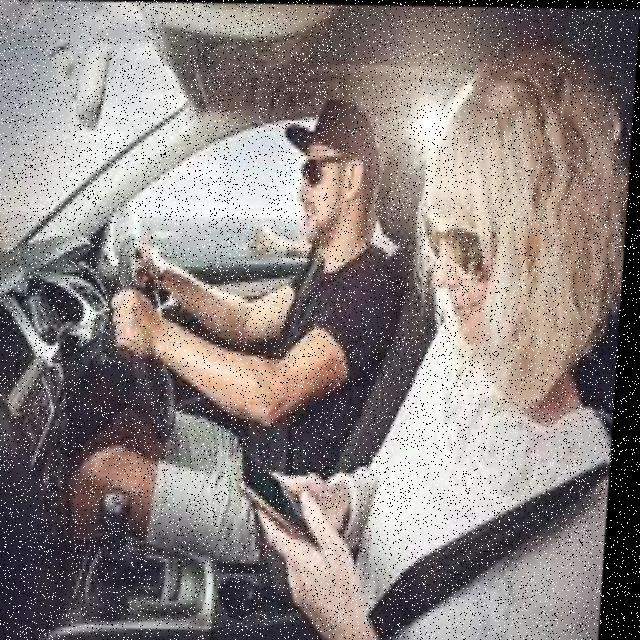seatbelt: (360, 319, 622, 640)
